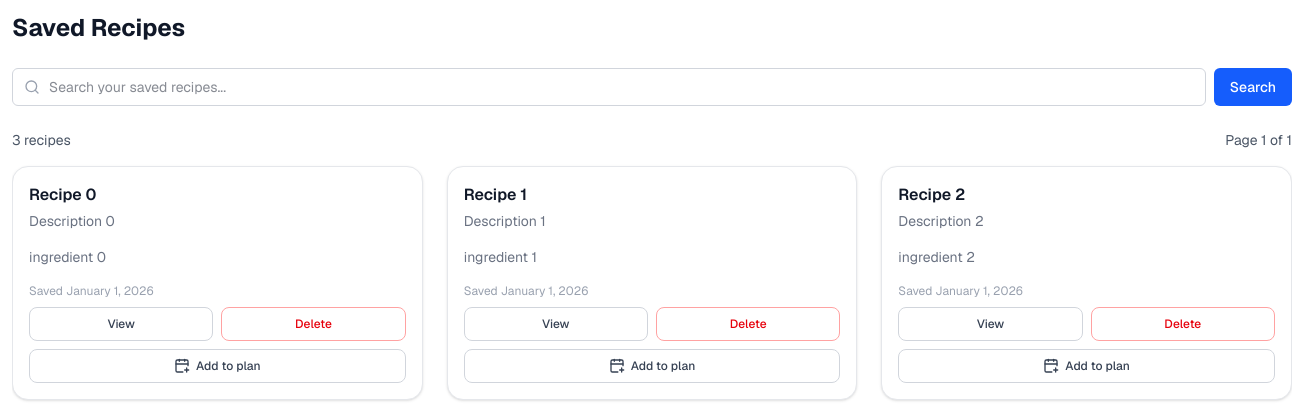
Scenario: RecipesPage › shows a distinct no-results state when a search matches nothing
This screenshot has width=1304, height=418.
Expected: the text "Page 1 of 1" is shown, x1=1225 y1=130 x2=1292 y2=150
Type "zzz-no-match" into the field labelled "Search your saved recipes..." at (609, 87), box x1=12 y1=68 x2=1206 y2=106
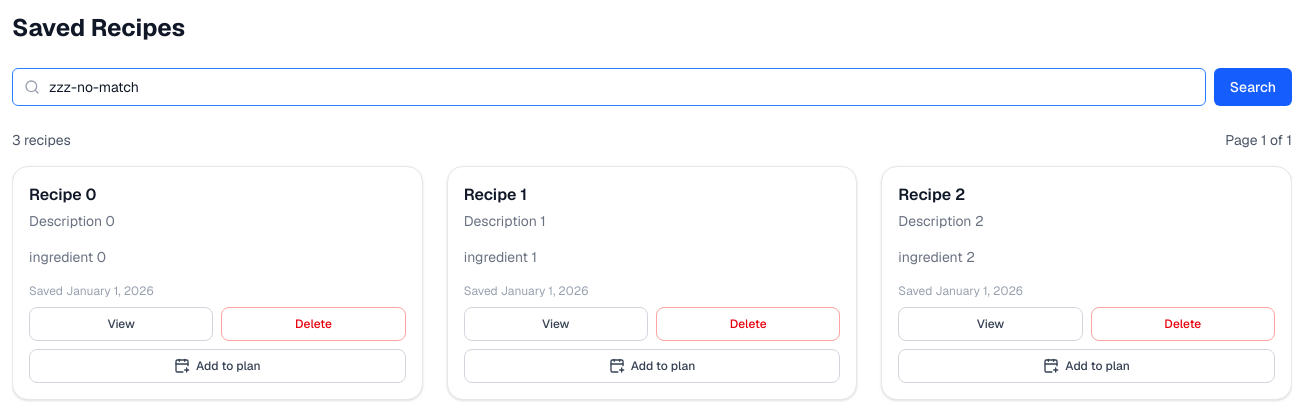
Click the button "Search" at (1253, 87), box x1=1214 y1=68 x2=1292 y2=106
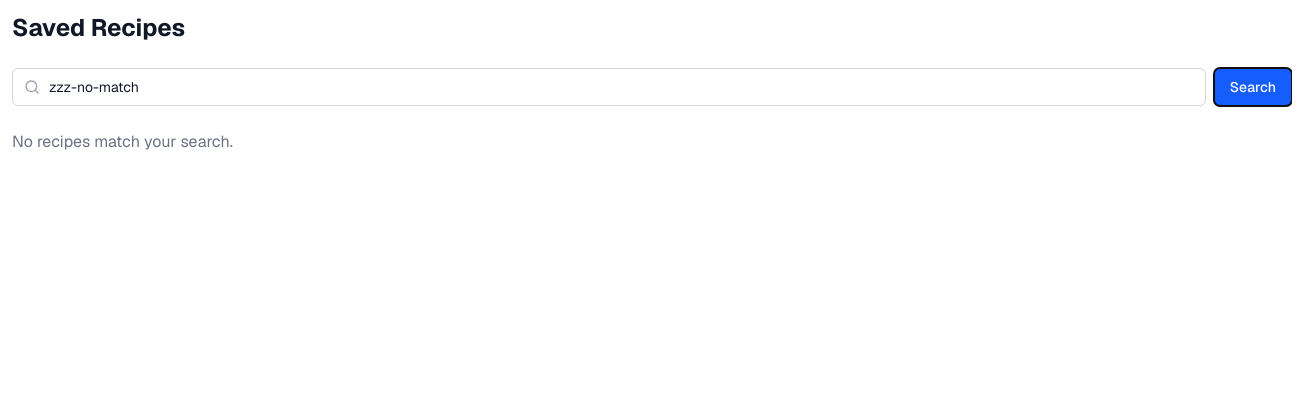
Now the text "No recipes match your search." is shown, box x1=12 y1=131 x2=233 y2=152
